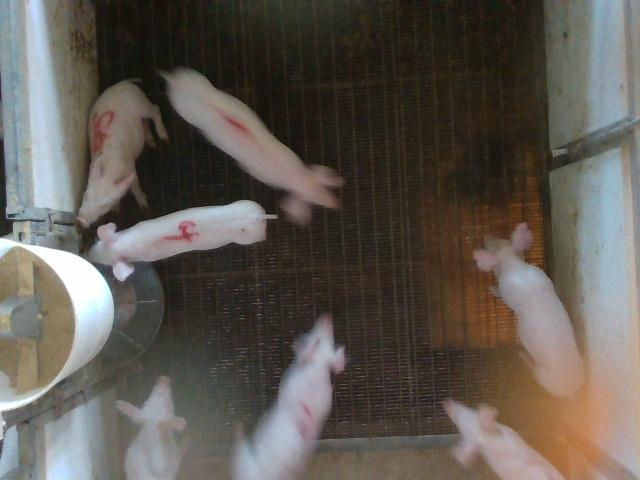pig-1: (161, 68, 344, 224)
pig-3: (232, 314, 345, 479)
pig-4: (88, 200, 274, 279)
pig-5: (78, 79, 169, 228)
